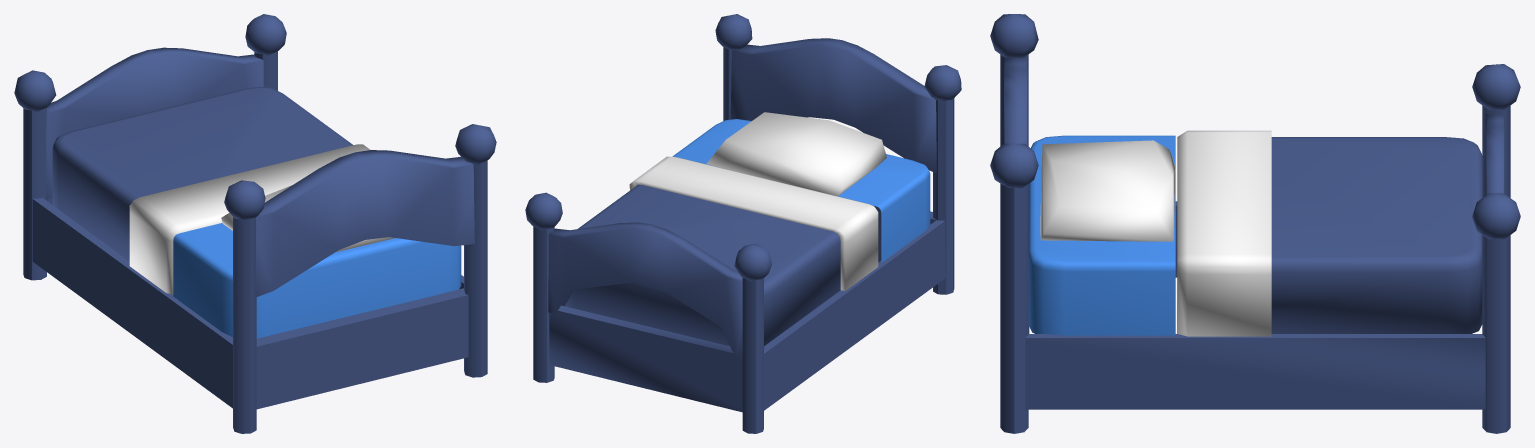
File: bed.fbx
The picture shows the model from 3 angles, left to right: view 1: azimuth 30°, elevation 25°; view 2: azimuth 150°, elevation 25°; view 3: azimuth 270°, elevation 25°; orthographic projection. The views are drawn at different scales.
Visible parts, largest first — view 1: Bed, Blanket1, Draps, Blanket2, Pillow; view 2: Bed, Blanket1, Blanket2, Pillow, Draps; view 3: Bed, Blanket1, Blanket2, Draps, Pillow.
Part boxes in pixels (box(x1,y1,x2,y2)): Bed: box(14, 14, 496, 433); Blanket1: box(52, 86, 353, 261); Draps: box(173, 223, 461, 338); Blanket2: box(129, 144, 370, 294); Pillow: box(221, 185, 395, 251); Bed: box(525, 14, 961, 433); Blanket1: box(565, 184, 840, 346); Blanket2: box(629, 156, 878, 291); Pillow: box(706, 112, 886, 195); Draps: box(672, 119, 930, 262); Bed: box(990, 14, 1520, 433); Blanket1: box(1271, 137, 1482, 333); Blanket2: box(1177, 130, 1271, 336); Draps: box(1028, 135, 1175, 335); Pillow: box(1040, 140, 1175, 241).
Bounding box in the file's own units: 369 × 327 × 553.
